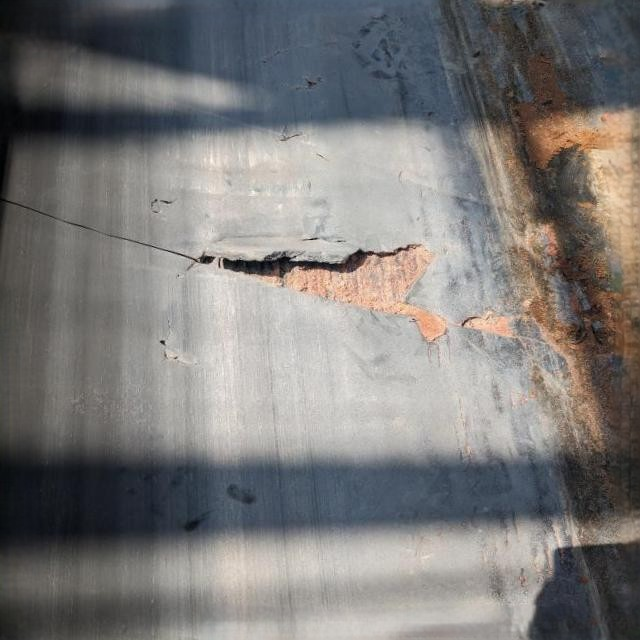Tear: (0, 192, 519, 348), (152, 313, 198, 369), (258, 35, 342, 65), (278, 70, 329, 95), (267, 121, 309, 147), (144, 194, 183, 217)
